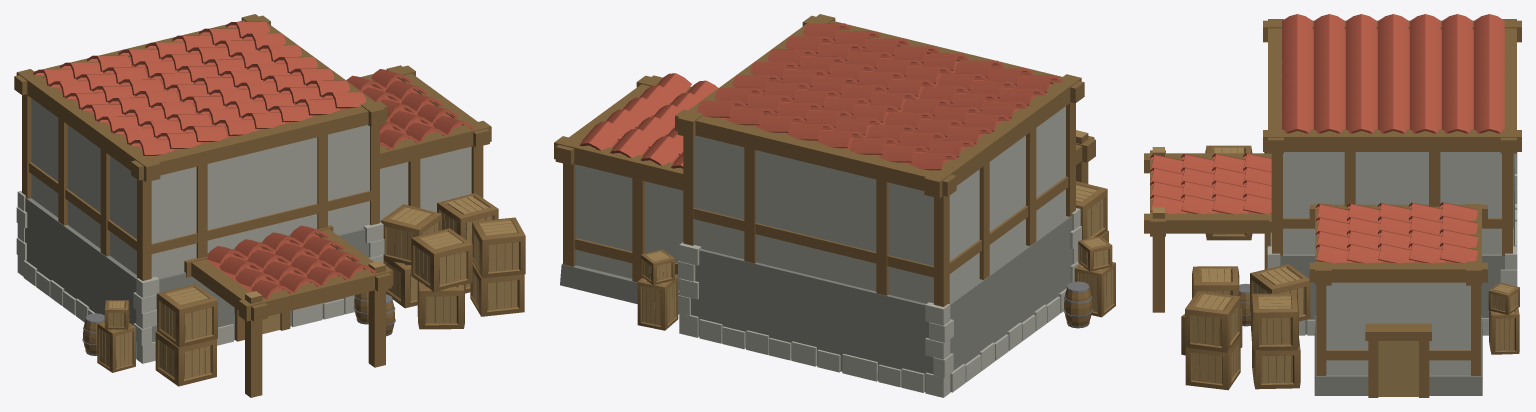
The model's file is Business Building.glb.
The picture shows the model from 3 angles, left to right: view 1: azimuth 30°, elevation 25°; view 2: azimuth 150°, elevation 25°; view 3: azimuth 270°, elevation 25°; orthographic projection. The views are drawn at different scales.
Visible parts, largest first — view 1: Business Building; view 2: Business Building; view 3: Business Building.
Boxes of the visible parts, bbox=[...] form: Business Building: bbox=[14, 14, 525, 397]; Business Building: bbox=[554, 14, 1115, 397]; Business Building: bbox=[1144, 14, 1521, 397].
Size of the model in its own units: 1.81 by 0.8991 by 1.43.
